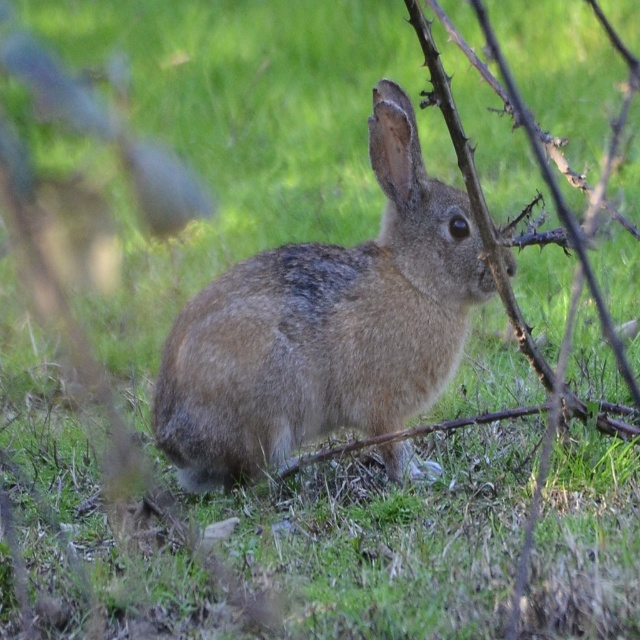Rabbit: (149, 78, 518, 497)
